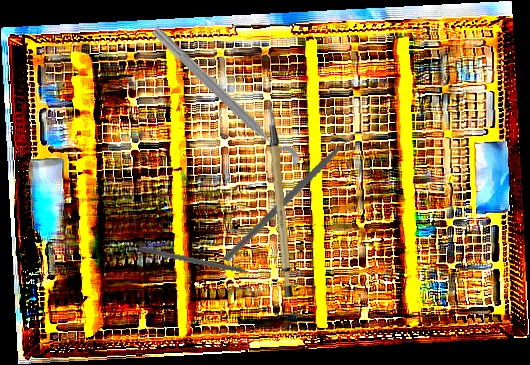Chopper: (222, 107, 373, 288)
Fixation Ring: (140, 21, 303, 181)
Hook Surgical: (138, 246, 263, 279)
Scalpel Handle: (258, 102, 306, 299)
